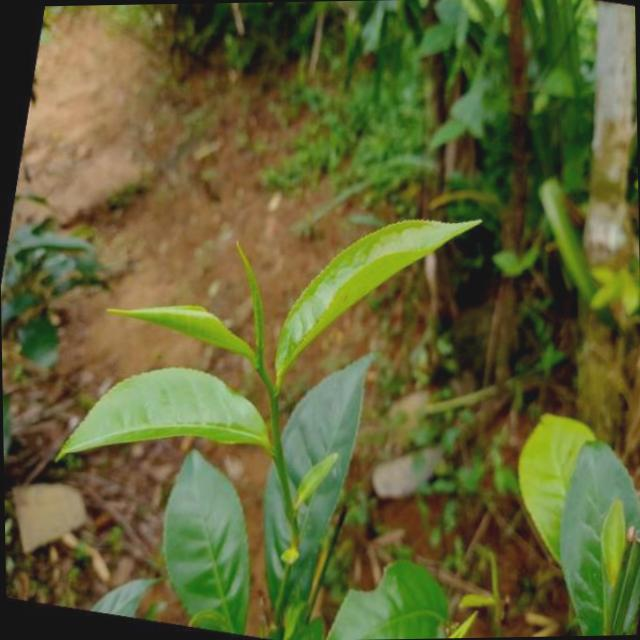Stem: (269, 388, 277, 400)
